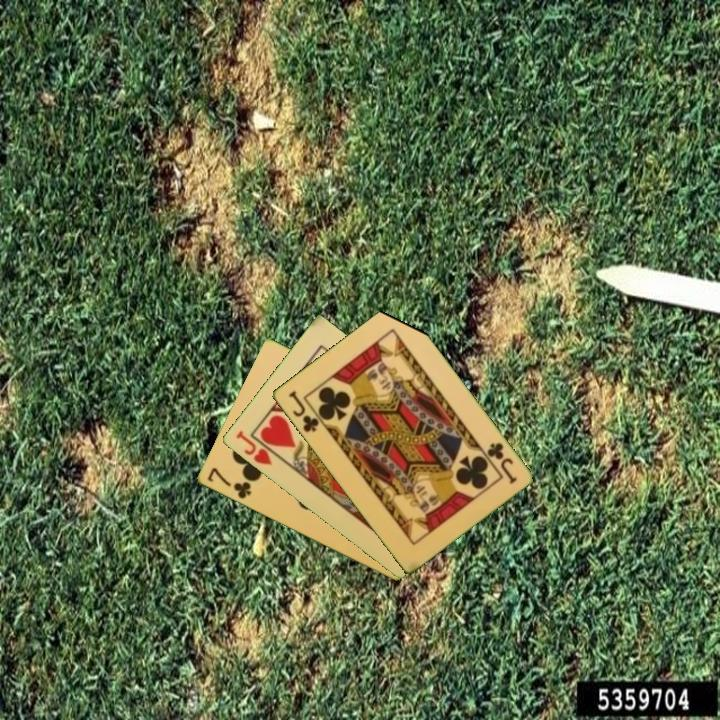7c: (203, 464, 254, 502)
Jc: (285, 387, 322, 435), (483, 439, 520, 487)
Jh: (232, 427, 275, 468)
